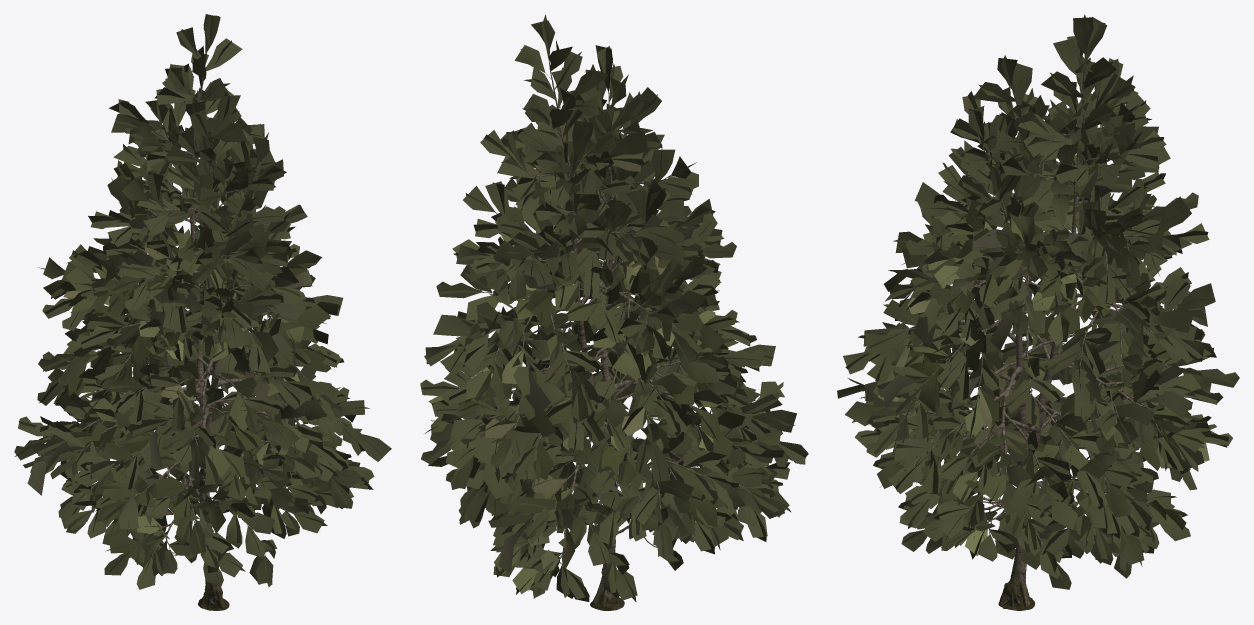
Rendered from SM_BlackAlder_Field_04_PP_LOD1.gltf.
The picture shows the model from 3 angles, left to right: view 1: azimuth 30°, elevation 25°; view 2: azimuth 150°, elevation 25°; view 3: azimuth 270°, elevation 25°; orthographic projection. The views are drawn at different scales.
Parts seen in each view (by area): view 1: SM_BlackAlder_Field_04_PP; view 2: SM_BlackAlder_Field_04_PP; view 3: SM_BlackAlder_Field_04_PP.
Part boxes in pixels (x1,y1,x2,y2): SM_BlackAlder_Field_04_PP: (14,14,391,610); SM_BlackAlder_Field_04_PP: (420,14,808,610); SM_BlackAlder_Field_04_PP: (837,14,1239,610).
Bounding box in the file's own units: 6.83 × 11.49 × 6.95.
Materials: 4 (4 with a texture image).
